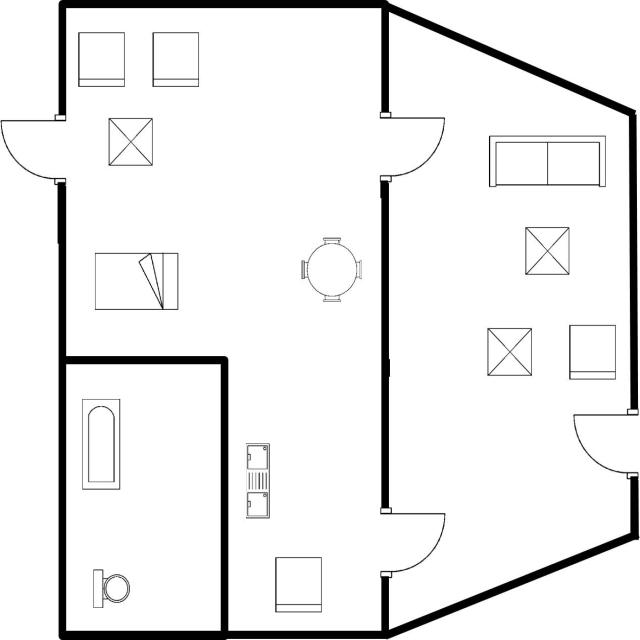bed: (90, 247, 184, 315)
coffee_table: (519, 222, 574, 282), (482, 322, 536, 381), (104, 114, 157, 170)
large_sink: (85, 564, 133, 614)
large_sofa: (484, 131, 612, 193)
round_table: (294, 232, 367, 306)
small_sofa: (74, 26, 130, 92), (270, 552, 326, 618), (147, 27, 203, 92), (565, 320, 620, 386)
tub: (77, 394, 125, 494)
twin_sink: (241, 438, 275, 524)
